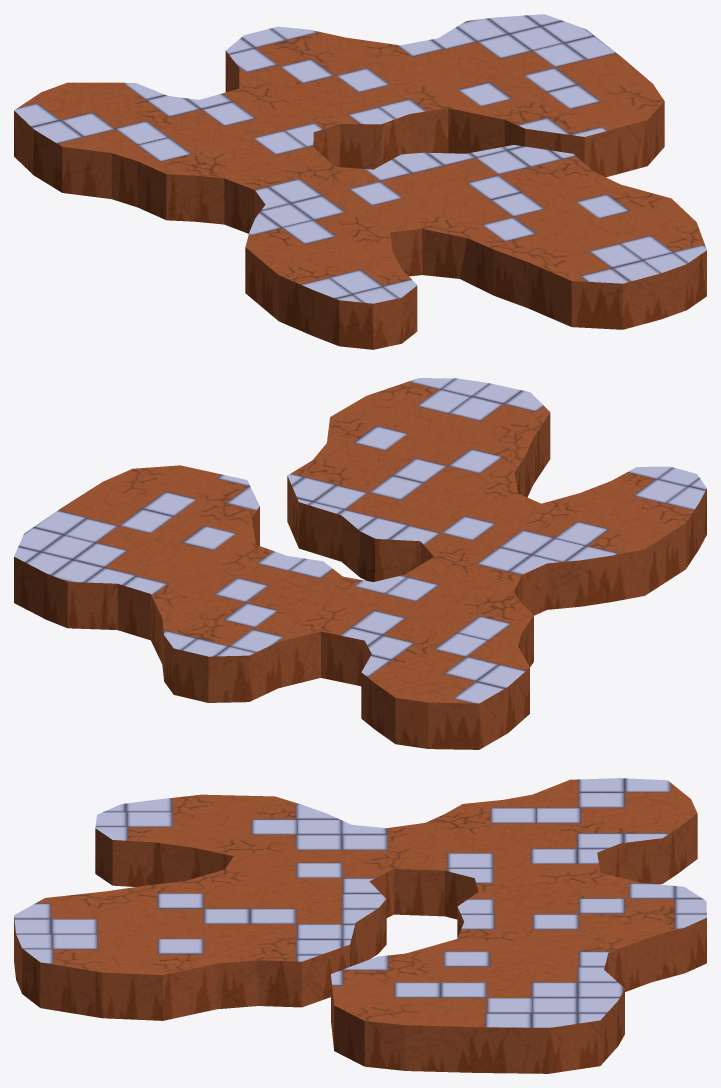
File: LavaGroundRescaled.fbx
3 renders of one model, top to bottom at view 1: azimuth 30°, elevation 25°; view 2: azimuth 150°, elevation 25°; view 3: azimuth 270°, elevation 25°, orthographic.
Parts seen in each view (by area): view 1: LavaLevelGround_Squished_01; view 2: LavaLevelGround_Squished_01; view 3: LavaLevelGround_Squished_01.
Boxes of the visible parts, <box> form: LavaLevelGround_Squished_01: <box>14,14,706,349</box>; LavaLevelGround_Squished_01: <box>14,378,706,749</box>; LavaLevelGround_Squished_01: <box>14,778,706,1073</box>.
Size of the model in its own units: 18.23 by 1.56 by 21.35.
